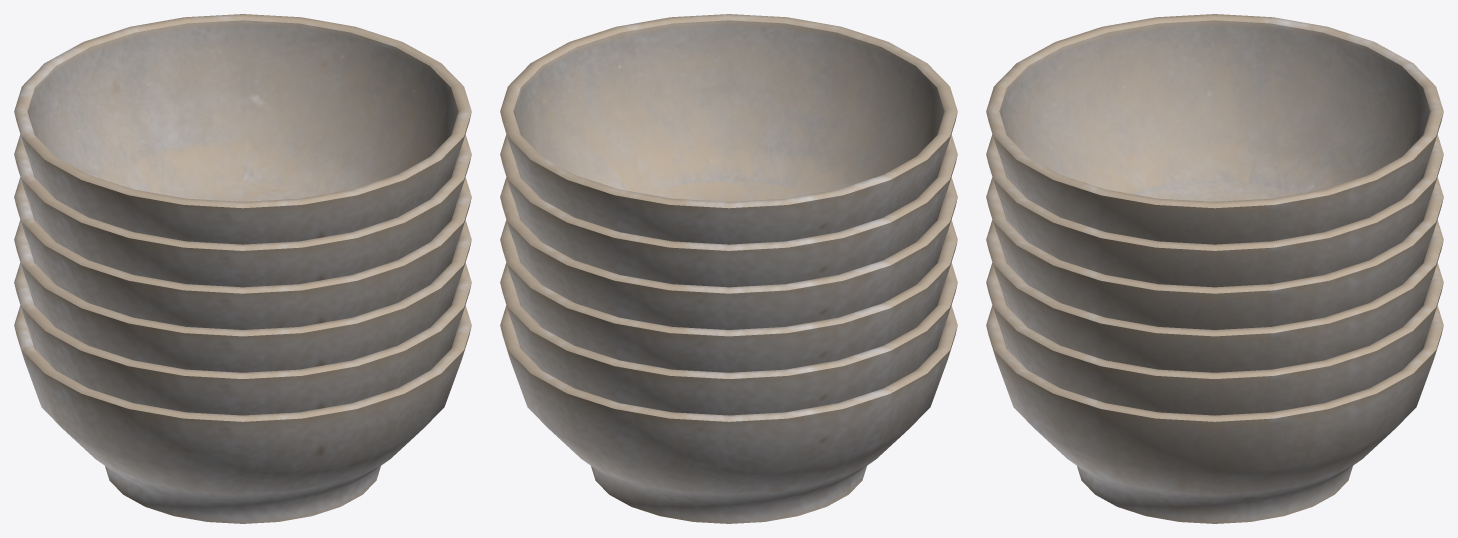
The model's file is BowlStack2.fbx.
The picture shows the model from 3 angles, left to right: view 1: azimuth 30°, elevation 25°; view 2: azimuth 150°, elevation 25°; view 3: azimuth 270°, elevation 25°; orthographic projection.
Parts seen in each view (by area): view 1: Bowl; view 2: Bowl; view 3: Bowl.
Part boxes in pixels (x1,y1,x2,y2): Bowl: (14, 14, 471, 523); Bowl: (500, 14, 957, 523); Bowl: (986, 14, 1443, 523).
Size of the model in its own units: 13.89 by 11.92 by 13.89.
Materials: 1 (1 with a texture image).
